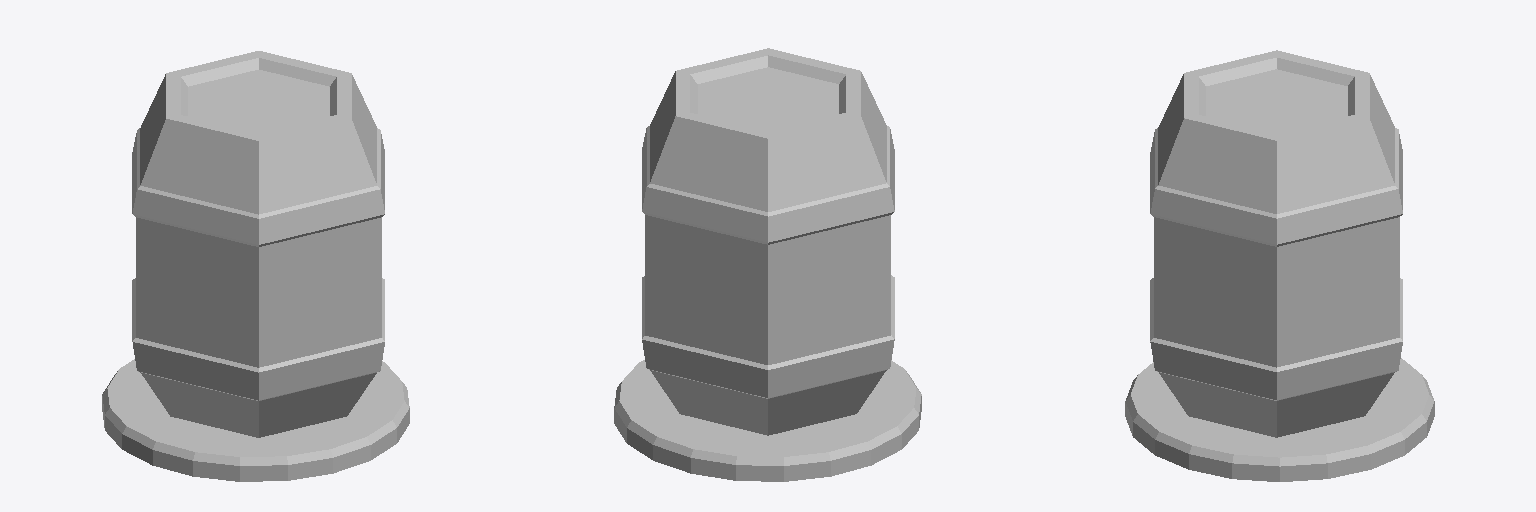
File: barrel.obj
3 renders of one model, left to right at view 1: azimuth 30°, elevation 25°; view 2: azimuth 150°, elevation 25°; view 3: azimuth 270°, elevation 25°, orthographic.
Visible parts, largest first — view 1: tile_base:polySurface9, tile_base:polySurface3 tile_base:polySurface8 tile_base:polySurf; view 2: tile_base:polySurface9, tile_base:polySurface3 tile_base:polySurface8 tile_base:polySurf; view 3: tile_base:polySurface9, tile_base:polySurface3 tile_base:polySurface8 tile_base:polySurf.
Boxes of the visible parts, box(x1,y1,x2,y2) form: tile_base:polySurface9: box(132, 51, 384, 437); tile_base:polySurface3 tile_base:polySurface8 tile_base:polySurf: box(102, 359, 409, 481); tile_base:polySurface9: box(642, 48, 894, 435); tile_base:polySurface3 tile_base:polySurface8 tile_base:polySurf: box(614, 360, 921, 481); tile_base:polySurface9: box(1150, 50, 1402, 437); tile_base:polySurface3 tile_base:polySurface8 tile_base:polySurf: box(1125, 358, 1434, 481).
Bounding box in the file's own units: 6.18 × 7.1 × 6.18.